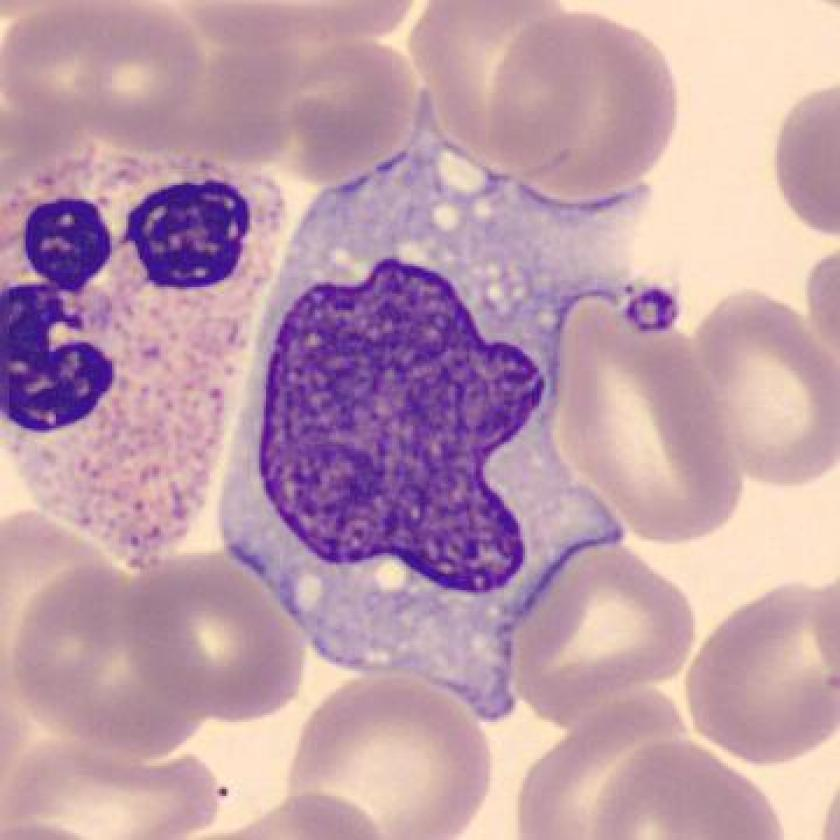monocyte: (207, 119, 655, 739)
